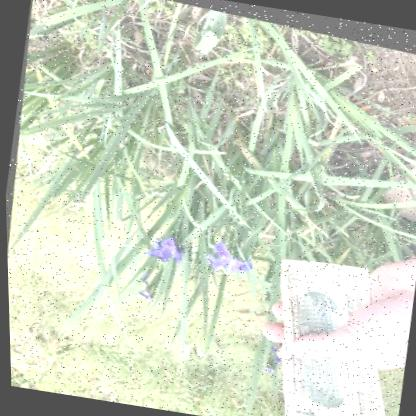ten-back: (275, 253, 380, 416)
